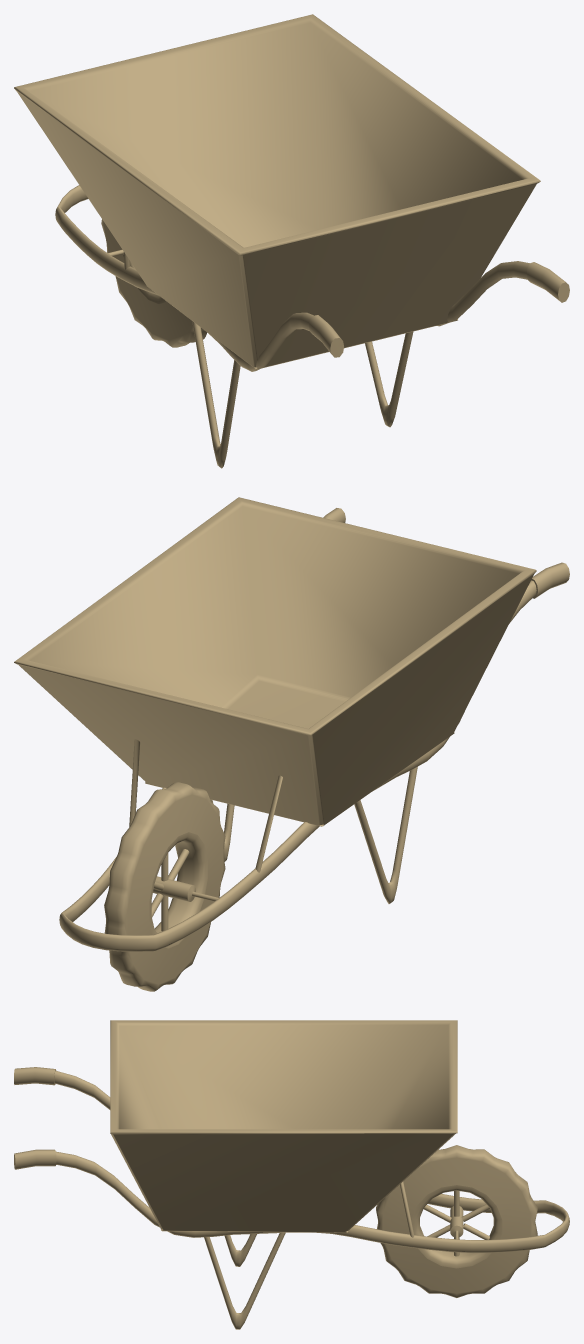
Rendered from 手推车.FBX.
3 views of the same model, one above another, from view 1: azimuth 30°, elevation 25°; view 2: azimuth 150°, elevation 25°; view 3: azimuth 270°, elevation 25° (orthographic). The views are drawn at different scales.
Parts seen in each view (by area): view 1: 手推车; view 2: 手推车; view 3: 手推车.
Part boxes in pixels (<box>): 手推车: <box>14,14,569,468</box>; 手推车: <box>14,497,569,991</box>; 手推车: <box>14,1020,569,1329</box>.
Size of the model in its own units: 57.02 by 52.87 by 119.
